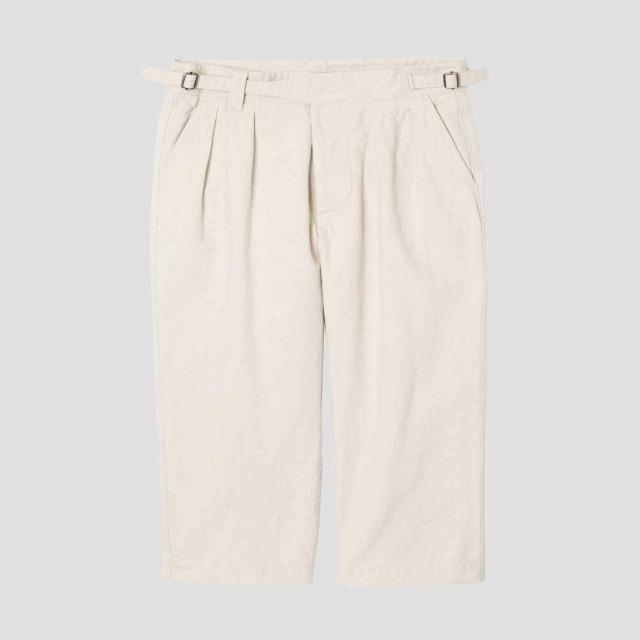long-pants: (144, 57, 490, 591)
